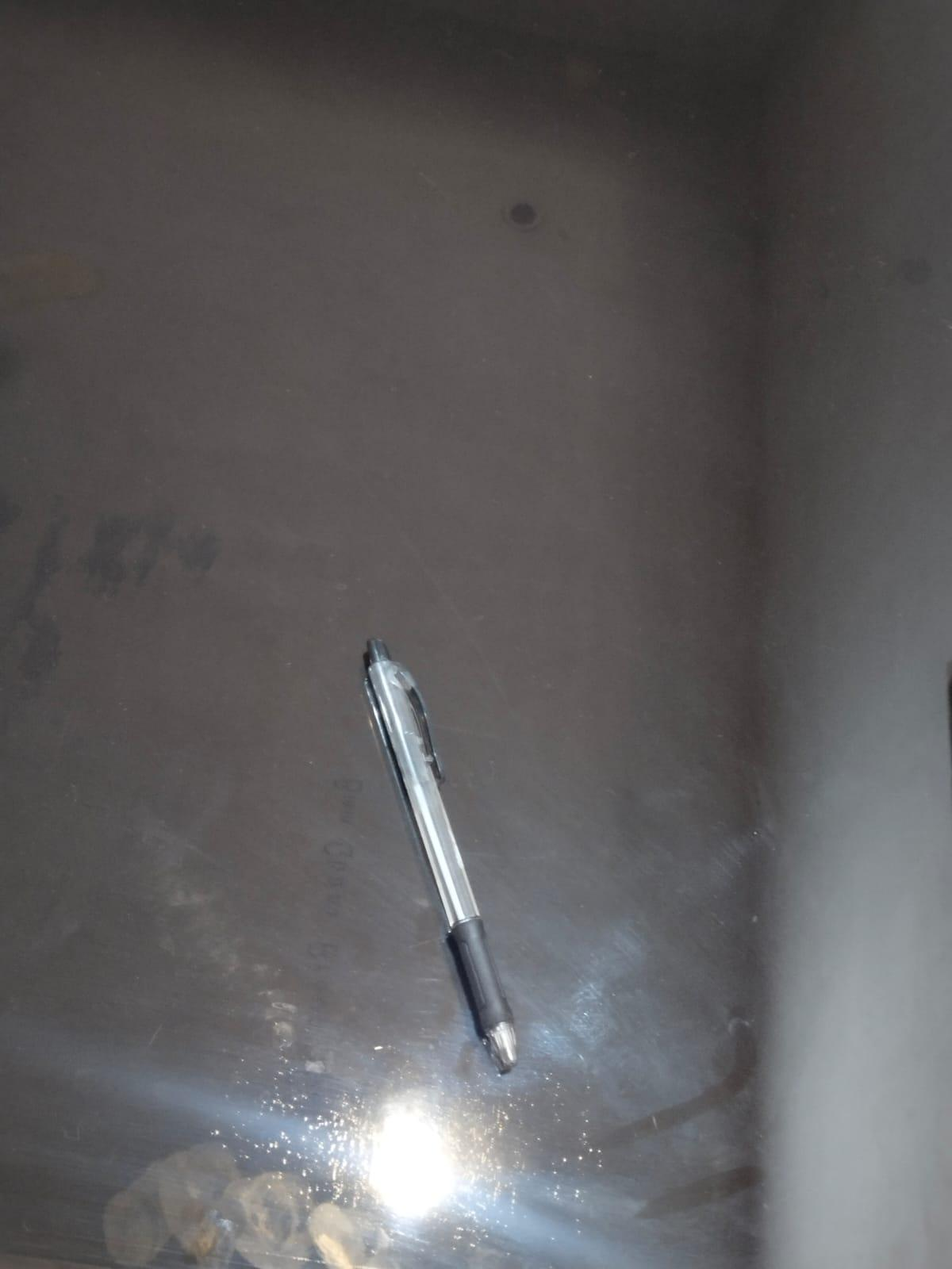pen: (394, 573, 689, 1075), (240, 592, 493, 1089)
